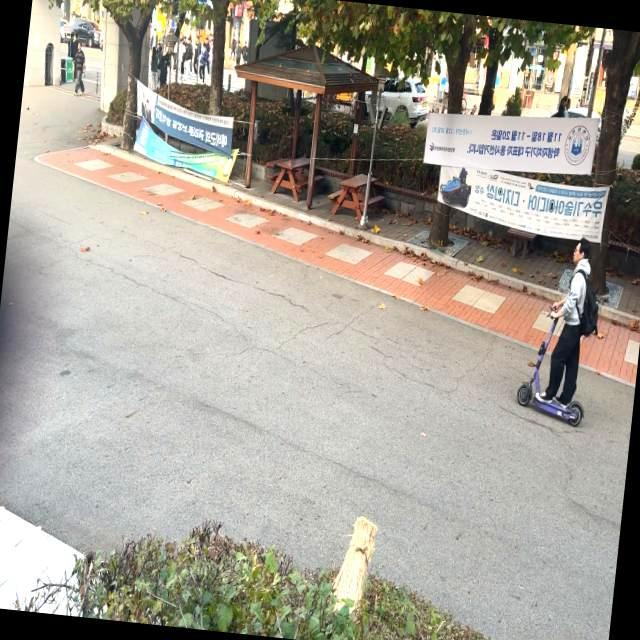bare_head: (568, 228, 599, 266)
human: (542, 229, 608, 401)
kickboard: (506, 382, 597, 443)
